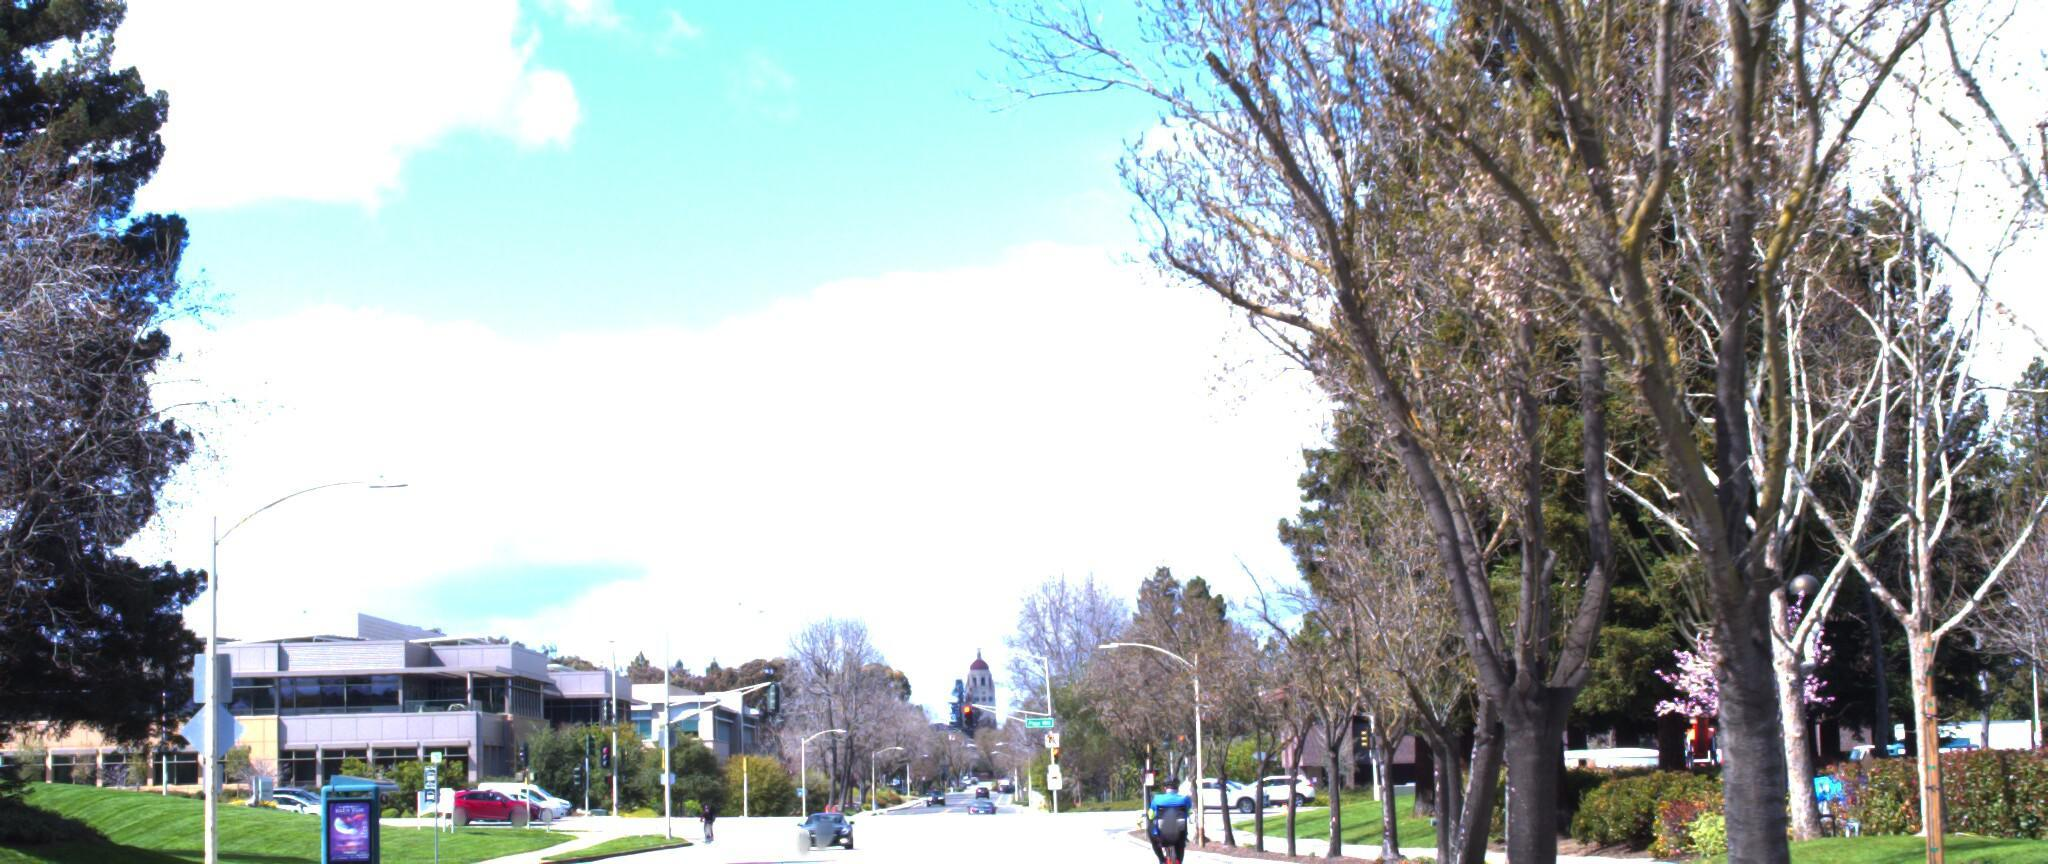bicycle: (1132, 764, 1196, 864)
